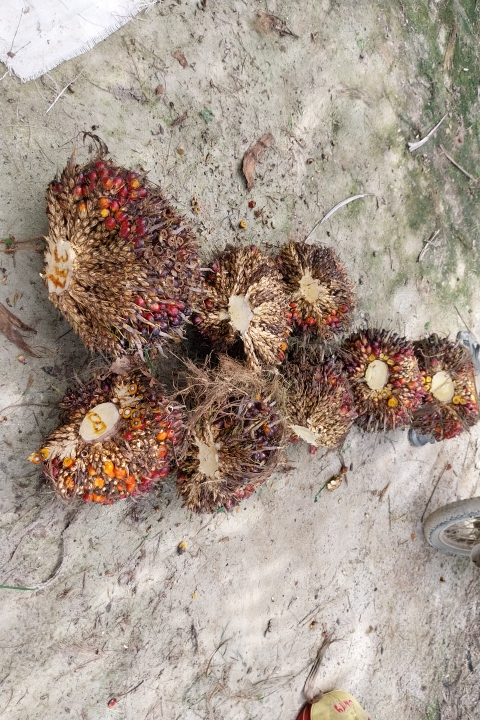janjang: (35, 151, 201, 364), (43, 358, 181, 514), (183, 366, 284, 530), (203, 223, 289, 368), (279, 214, 364, 336), (349, 326, 422, 445), (422, 316, 478, 448), (289, 340, 351, 458)
